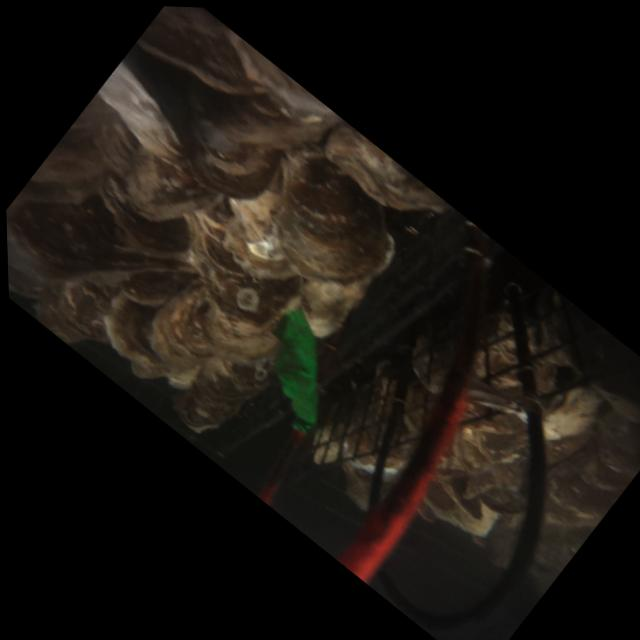Oyster-Closed: (136, 6, 337, 123), (150, 280, 279, 433), (272, 154, 393, 283), (324, 124, 450, 214), (186, 100, 282, 198), (30, 94, 115, 195), (12, 195, 121, 272), (98, 62, 181, 162), (101, 175, 190, 259), (125, 147, 220, 222), (207, 260, 300, 333), (545, 450, 628, 527), (448, 414, 528, 490), (224, 192, 296, 276), (104, 294, 169, 379), (424, 477, 500, 538), (542, 388, 601, 440), (595, 411, 640, 478), (120, 271, 196, 307), (467, 379, 527, 423), (412, 336, 456, 393)
